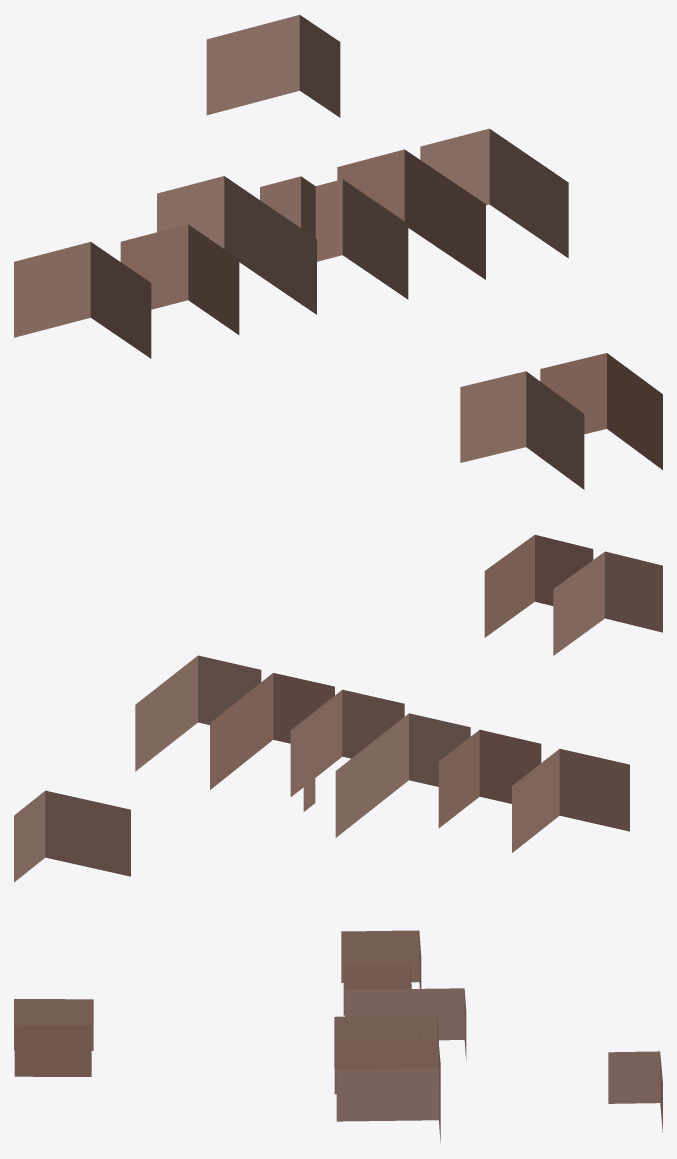
File: c_1632_17824_buildings_residential.glb
The picture shows the model from 3 angles, top to bottom: view 1: azimuth 30°, elevation 25°; view 2: azimuth 150°, elevation 25°; view 3: azimuth 270°, elevation 25°; orthographic projection. The views are drawn at different scales.
Visible parts, largest first — view 1: geometry_0; view 2: geometry_0; view 3: geometry_0.
Boxes of the visible parts, x1=… form: geometry_0: x1=14, y1=14, x2=662, y2=489; geometry_0: x1=14, y1=535, x2=662, y2=882; geometry_0: x1=14, y1=930, x2=662, y2=1142.
Bounding box in the file's own units: 64.77 × 9.92 × 108.
